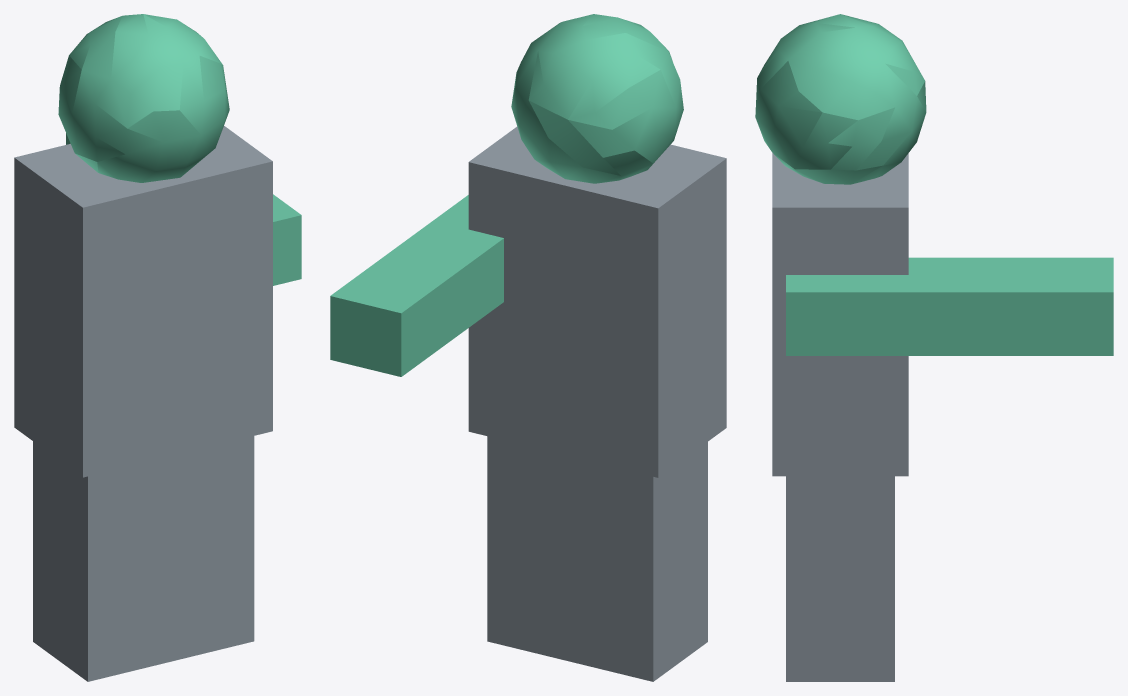
The model's file is CO_RakshaGuard_LOD2.glb.
The picture shows the model from 3 angles, left to right: view 1: azimuth 30°, elevation 25°; view 2: azimuth 150°, elevation 25°; view 3: azimuth 270°, elevation 25°; orthographic projection.
Visible parts, largest first — view 1: Head; view 2: Head; view 3: Head.
Part boxes in pixels (bbox=[...]): Head: bbox=[14, 14, 301, 681]; Head: bbox=[330, 14, 726, 681]; Head: bbox=[755, 14, 1113, 681].
Size of the model in its own units: 66.5 by 175 by 91.81.
